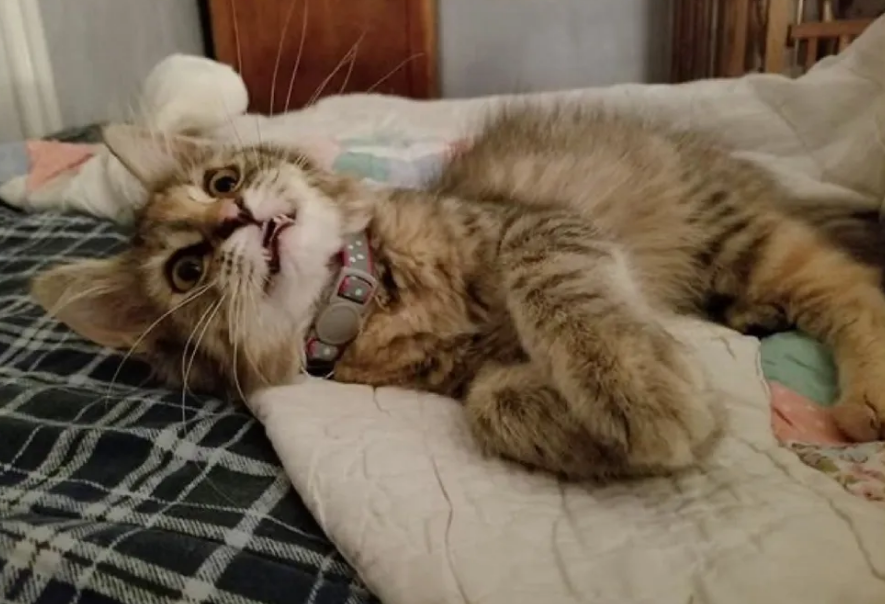cat: (52, 89, 885, 479)
